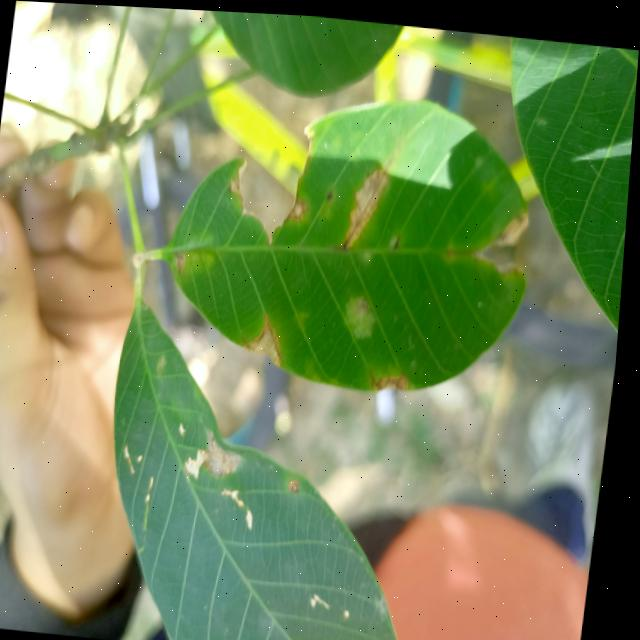Corynespora: (345, 146, 400, 250), (263, 310, 294, 356)
Leaf-Blight: (210, 429, 252, 475), (254, 326, 290, 363), (189, 445, 215, 477), (228, 484, 253, 503), (252, 506, 263, 528), (184, 420, 193, 432)
